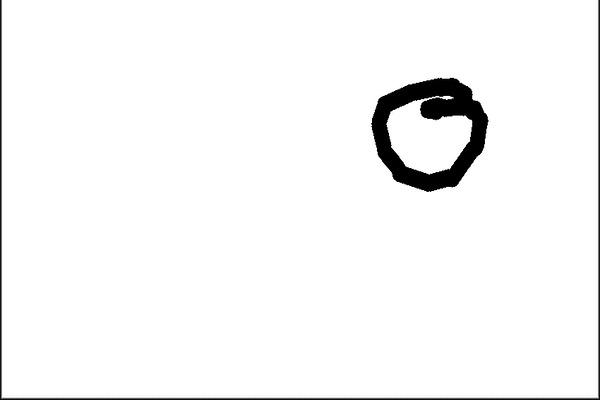O: (355, 65, 498, 194)
